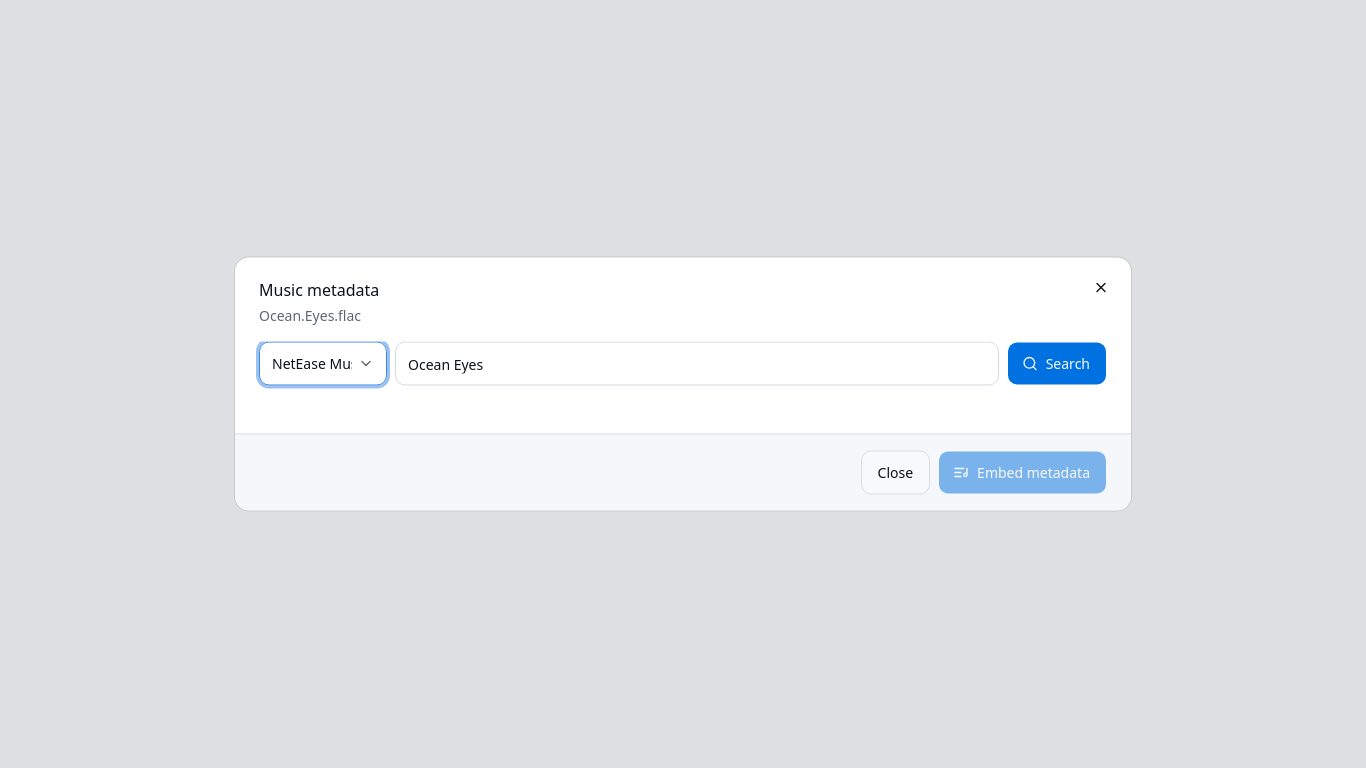
Test: MusicMetadataDialog › keeps QQ Music available
This screenshot has width=1366, height=768.
Click the dropdown named "Music source": (323, 364) [259,342,387,386]
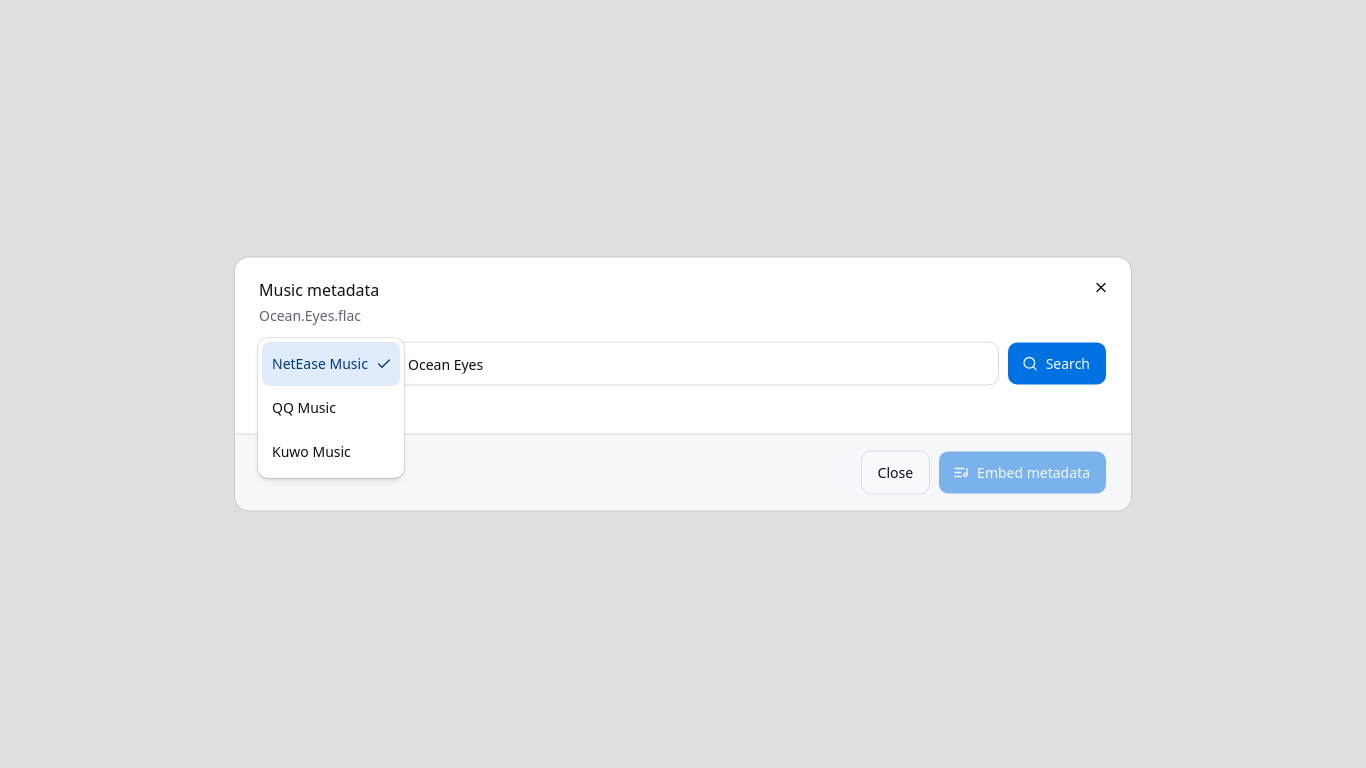
Click the option "QQ Music": (304, 407) [272,398,336,416]
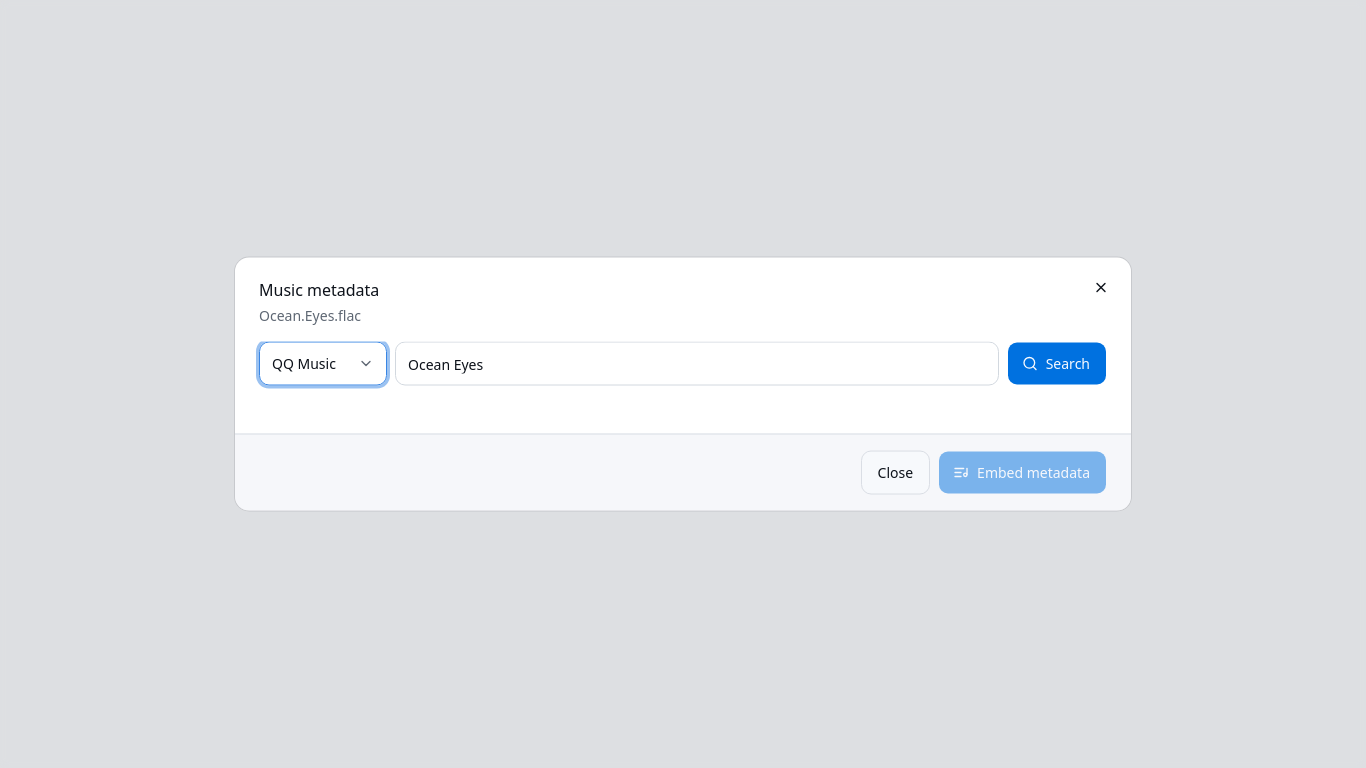
Click the button "Search": (1057, 364) [1007,342,1107,386]
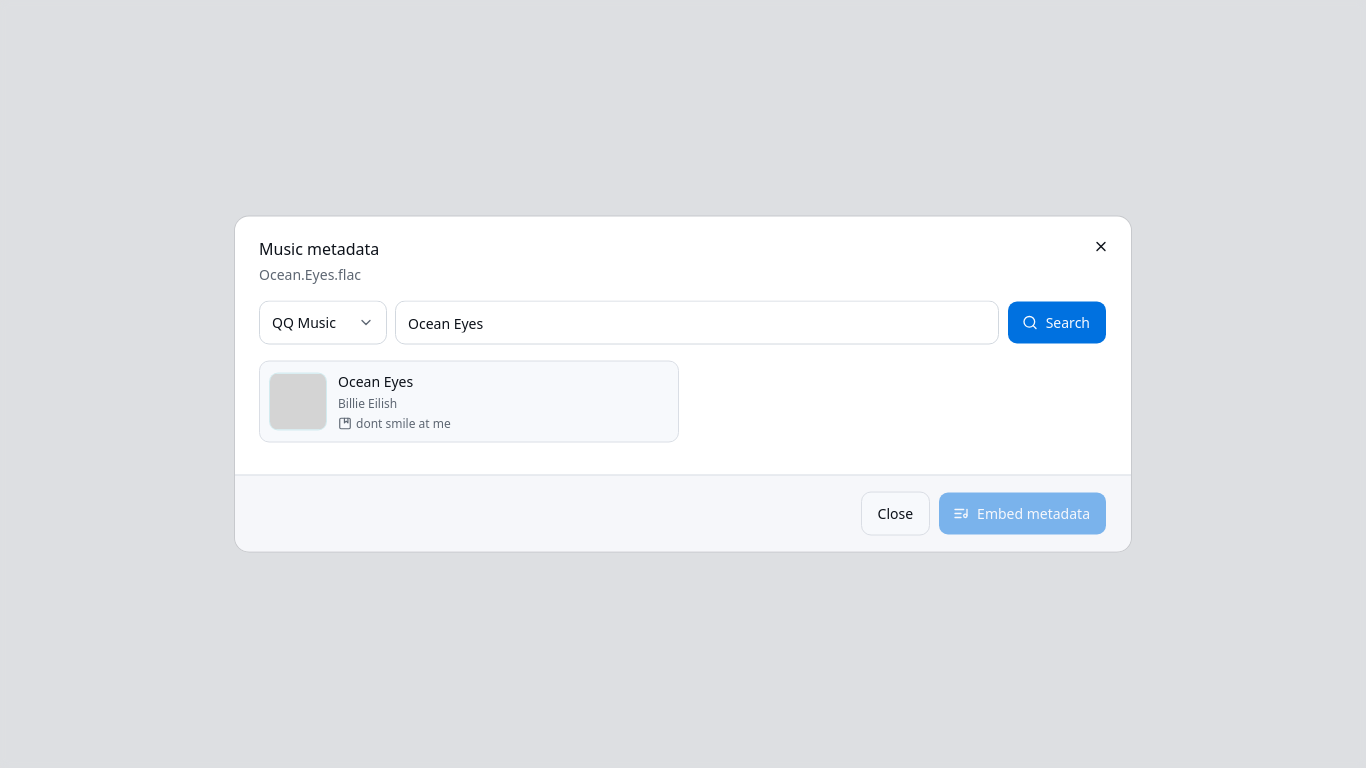
Click the button "Ocean Eyes Billie Eilish dont smile at me": (298, 402) [259,360,679,442]
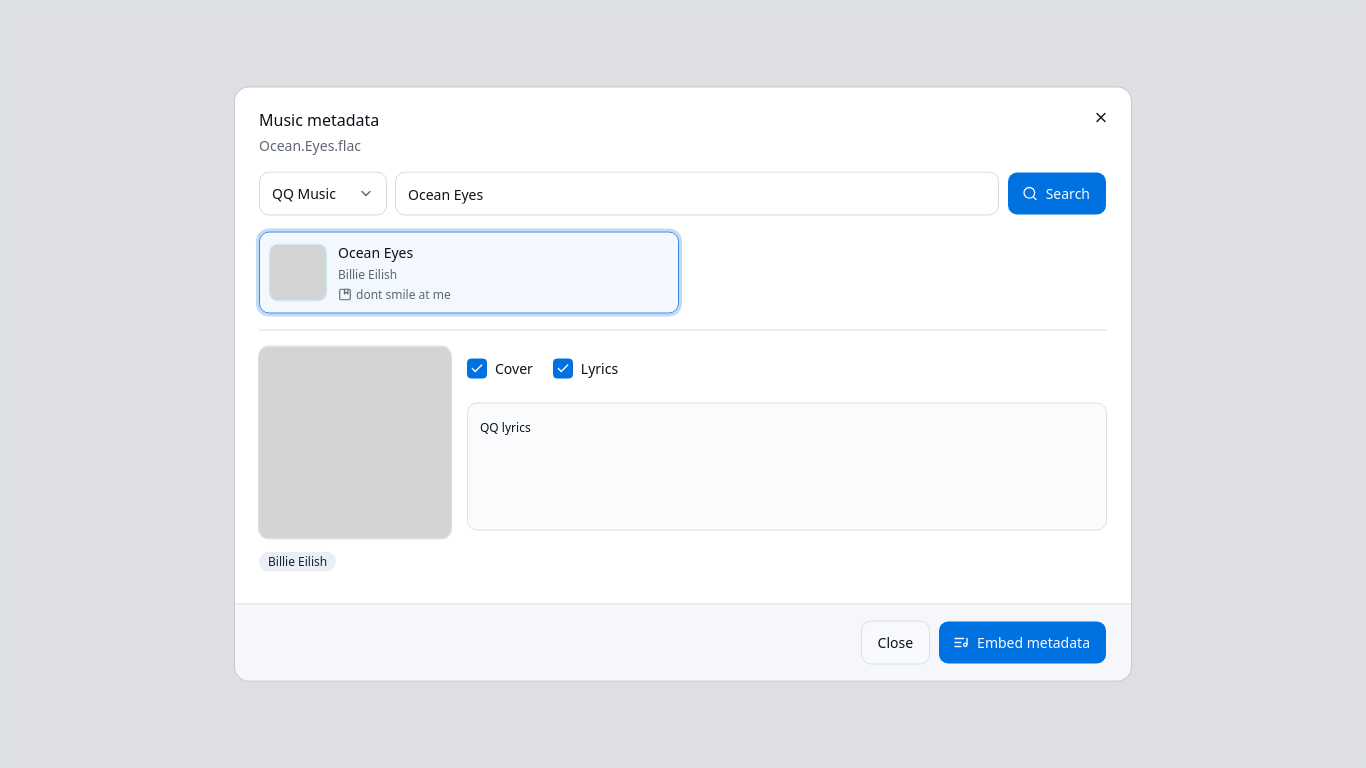
Expected: the text "QQ lyrics" is shown, [480,418,531,436]
